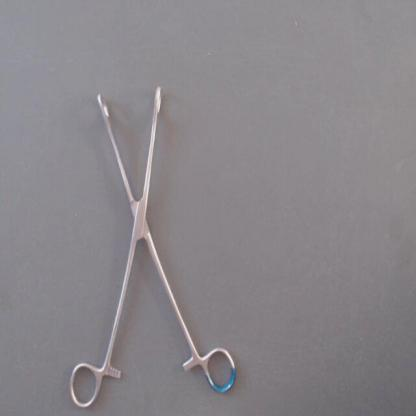Sponge Forceps: (58, 76, 244, 414)
